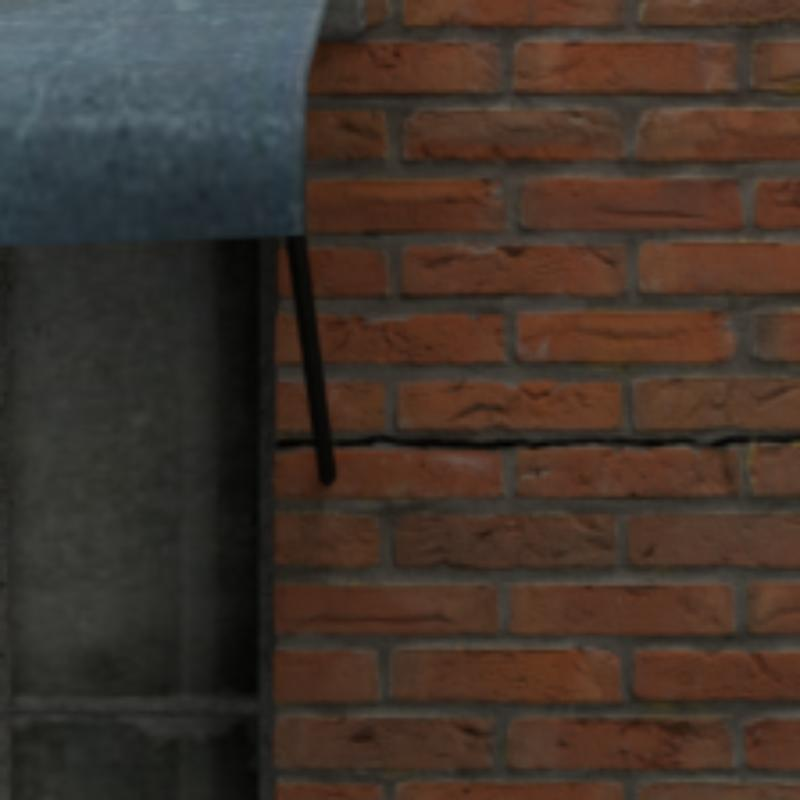pothole: (386, 436, 796, 450), (279, 436, 386, 446)
